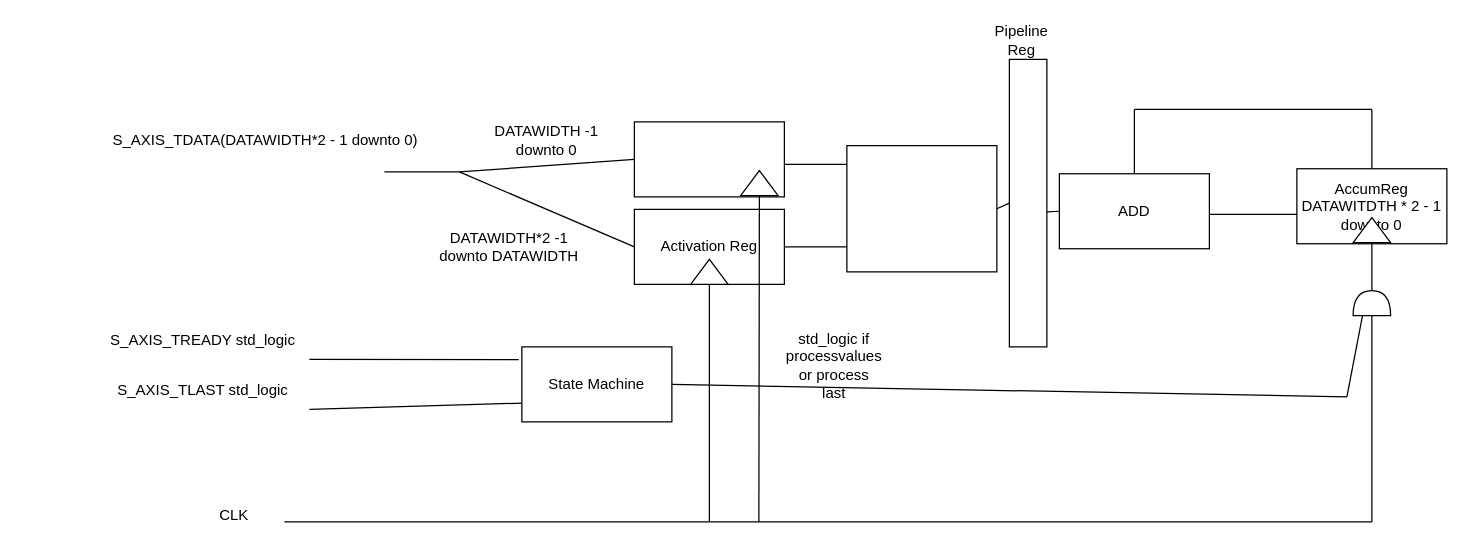
Some shapes in this 1469 by 555 pixel diagram are drawn without their labels. Each missing label, with the box of its shape:
DATAWIDTH * DATAWIDTH MUL: (846, 144, 997, 272)
Weight Reg: (633, 121, 784, 197)
